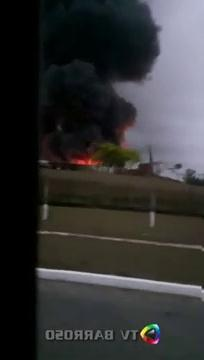smoke: (44, 5, 108, 141)
